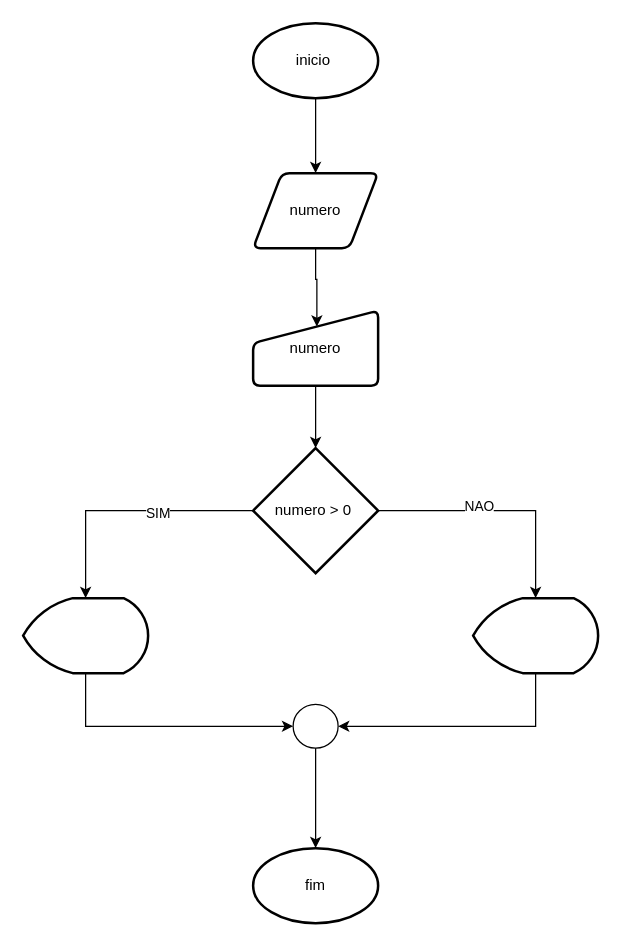
This 620x945 diagram has some shape labels left out. The shapes that lost their labels are listed below. From the top down, each one's centre as x and y in pixels, then its label:
(85,635): verdadeiro
(535,635): falso
